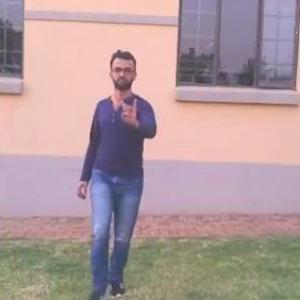takeoff-hand: (117, 85, 147, 125)
